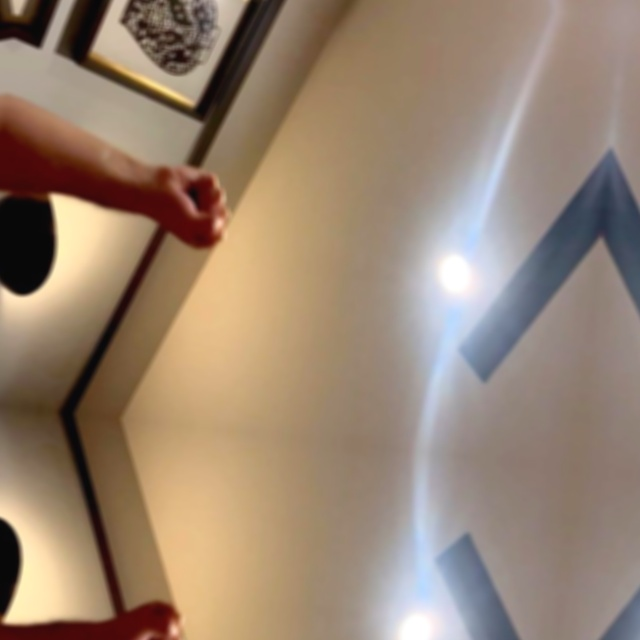Rock: (152, 156, 236, 256)
